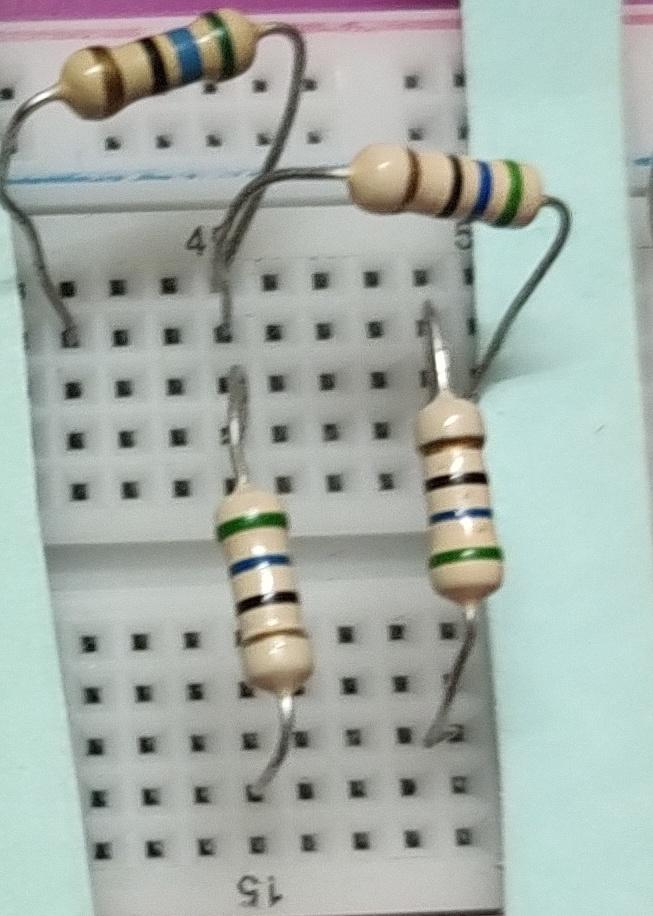resistor: (195, 457, 341, 714), (43, 0, 286, 128), (335, 125, 559, 254), (403, 385, 515, 604)
